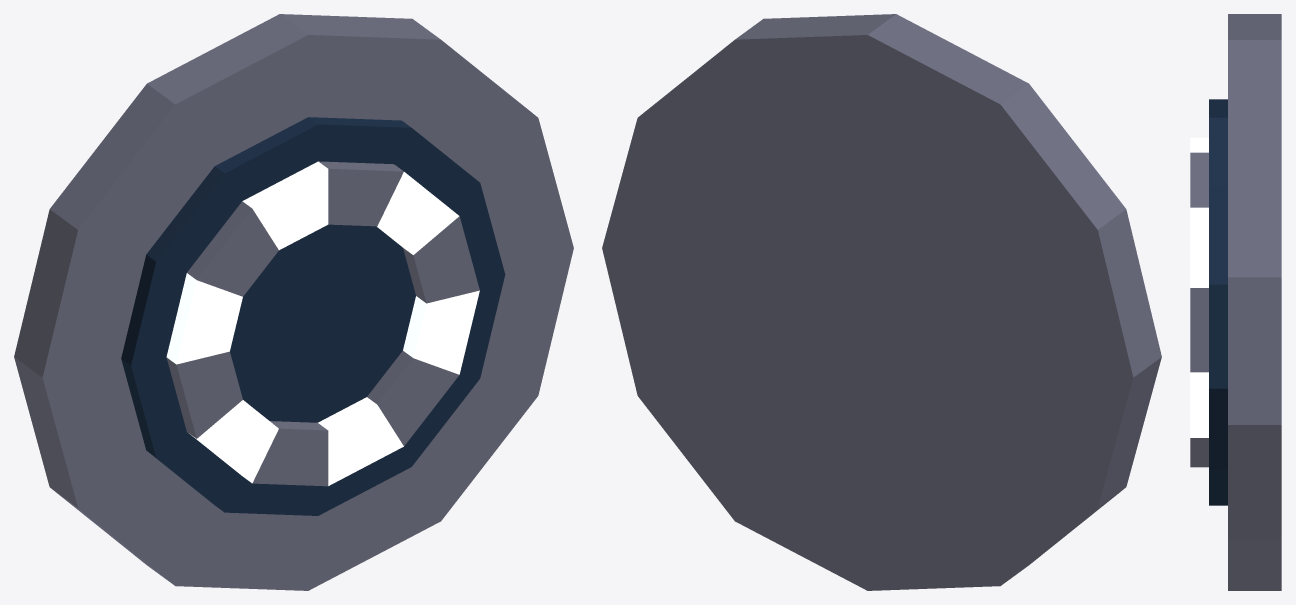
Rendered from teleporter.glb.
The picture shows the model from 3 angles, left to right: view 1: azimuth 30°, elevation 25°; view 2: azimuth 150°, elevation 25°; view 3: azimuth 270°, elevation 25°; orthographic projection. The views are drawn at different scales.
Visible parts, largest first — view 1: Cylinder; view 2: Cylinder; view 3: Cylinder.
Part boxes in pixels (left/top/right/bottom): Cylinder: left=14, top=14, right=573, bottom=590; Cylinder: left=602, top=14, right=1161, bottom=590; Cylinder: left=1190, top=14, right=1281, bottom=590.
Size of the model in its own units: 0.5584 by 0.5584 by 0.0883.
